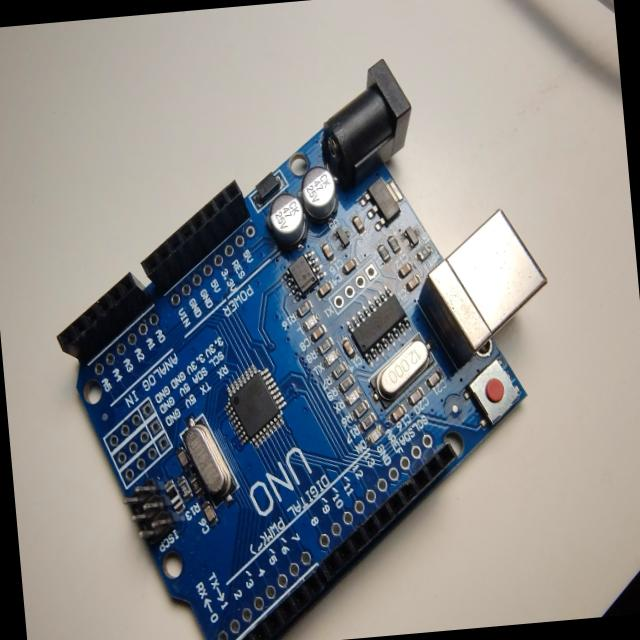arduino: (27, 42, 572, 640)
